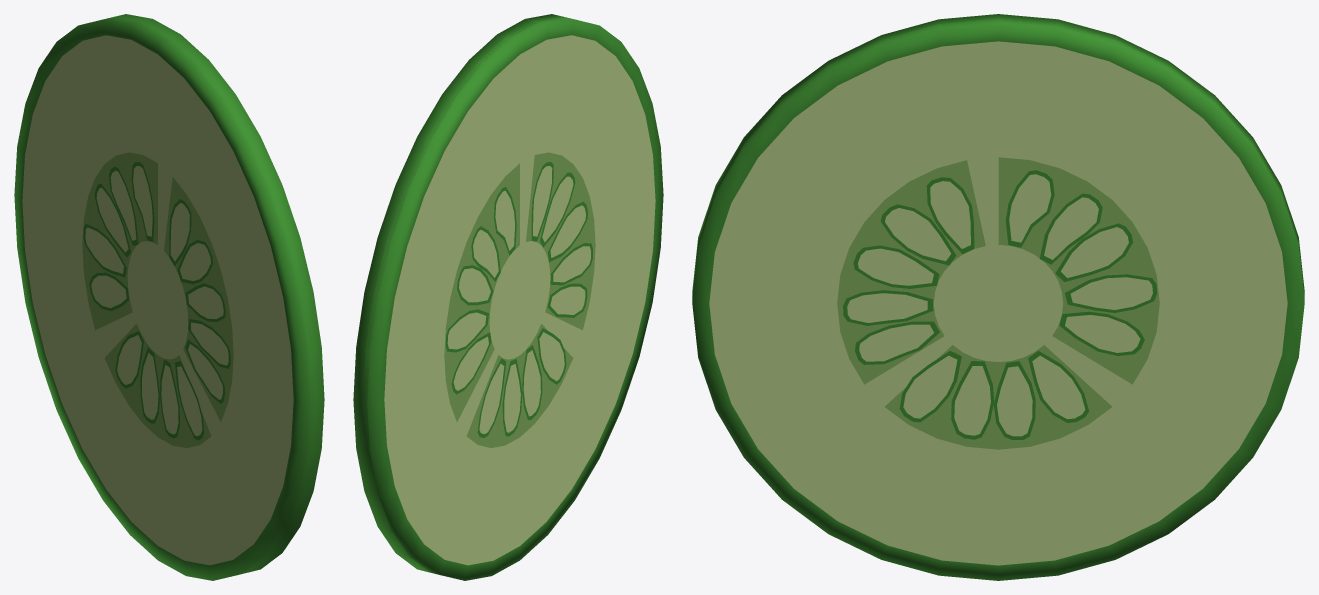
The model's file is cucumber_cut.fbx.
The picture shows the model from 3 angles, left to right: view 1: azimuth 30°, elevation 25°; view 2: azimuth 150°, elevation 25°; view 3: azimuth 270°, elevation 25°; orthographic projection. The views are drawn at different scales.
Parts seen in each view (by area): view 1: Plan.003; view 2: Plan.003; view 3: Plan.003.
Part boxes in pixels (left/top/right/bottom): Plan.003: left=14, top=14, right=324, bottom=580; Plan.003: left=353, top=14, right=663, bottom=580; Plan.003: left=692, top=14, right=1304, bottom=580.
Bounding box in the file's own units: 5.43 × 116 × 116.
